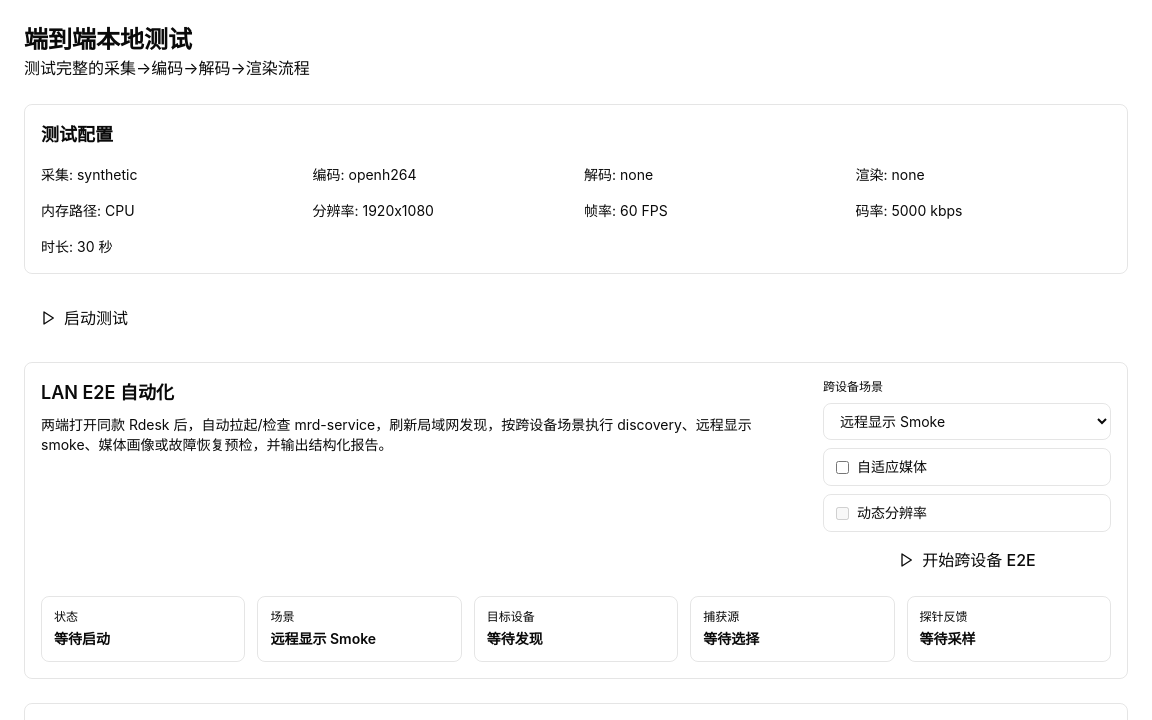
E2ETestPage LAN automation › runs the cross-device discovery scenario without starting a LAN session
Select "发现/配对预检" in the dropdown labelled "跨设备场景" at (967, 422), box [823,403,1111,440]
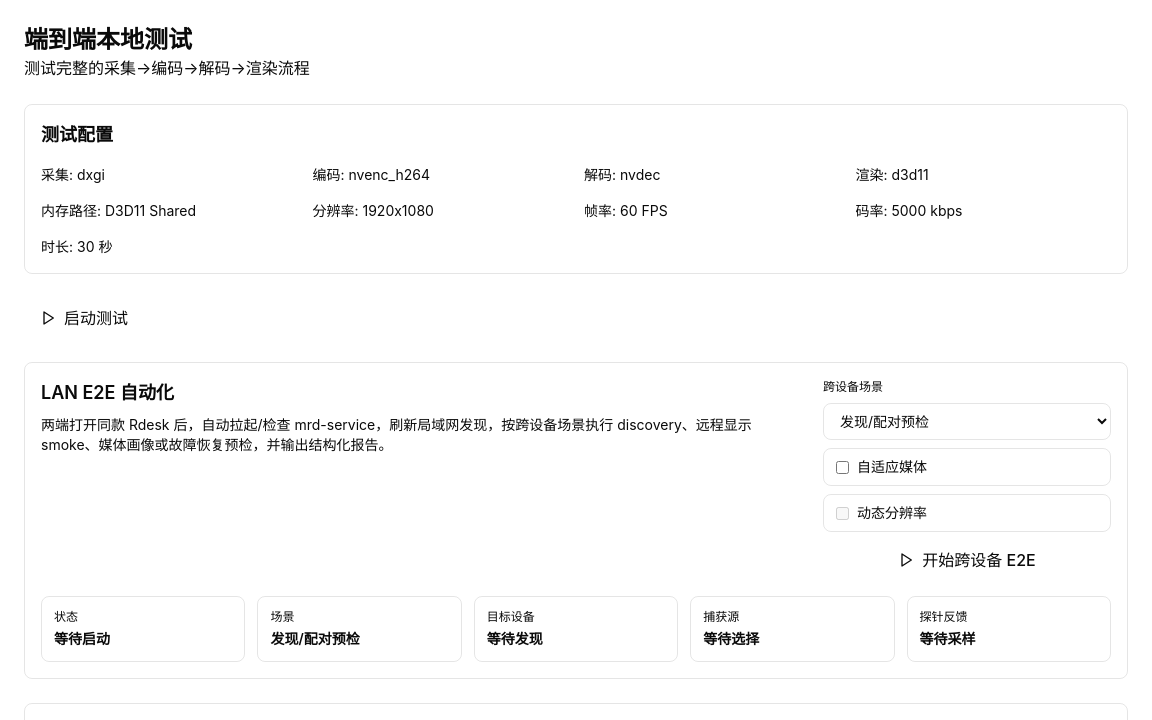
Click the button "开始跨设备 E2E" at (967, 560), box [823,540,1111,580]
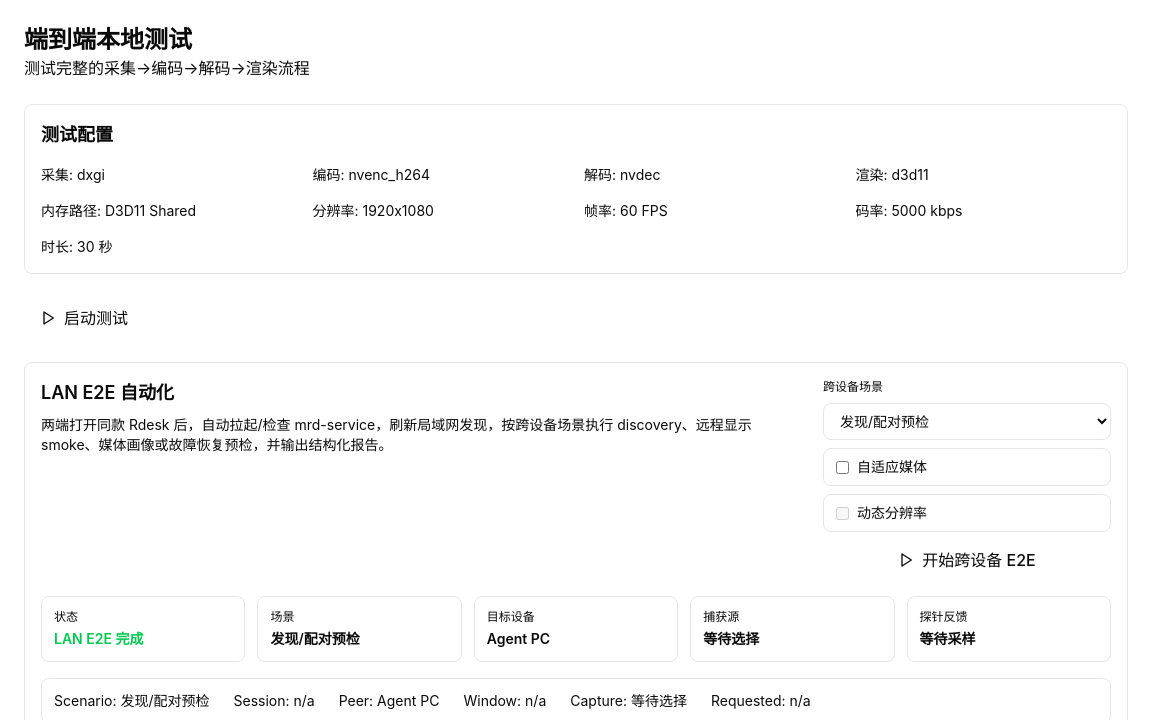
Expected: the text "LAN E2E 完成" is shown, [54,630,144,647]
